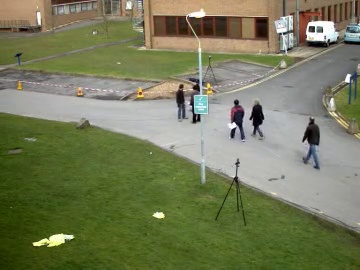person: (174, 81, 192, 119), (174, 84, 192, 122), (174, 83, 191, 120)
